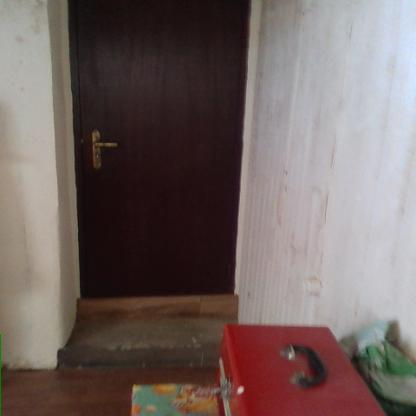closed: (34, 0, 276, 315)
